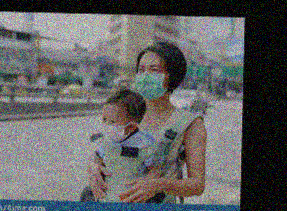with_mask: (133, 62, 169, 101), (98, 112, 130, 142)
